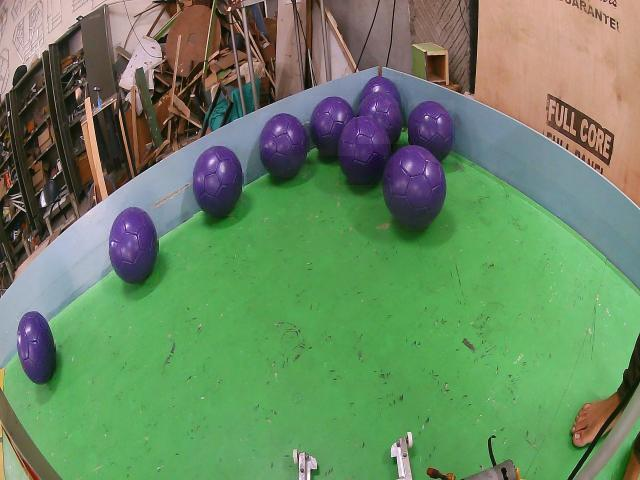jambhalya: (381, 146, 445, 231), (340, 115, 393, 185), (110, 207, 158, 283), (194, 146, 243, 216), (260, 114, 308, 178), (409, 100, 454, 162), (310, 96, 355, 156), (17, 312, 55, 383), (358, 94, 403, 144), (362, 76, 401, 106)
